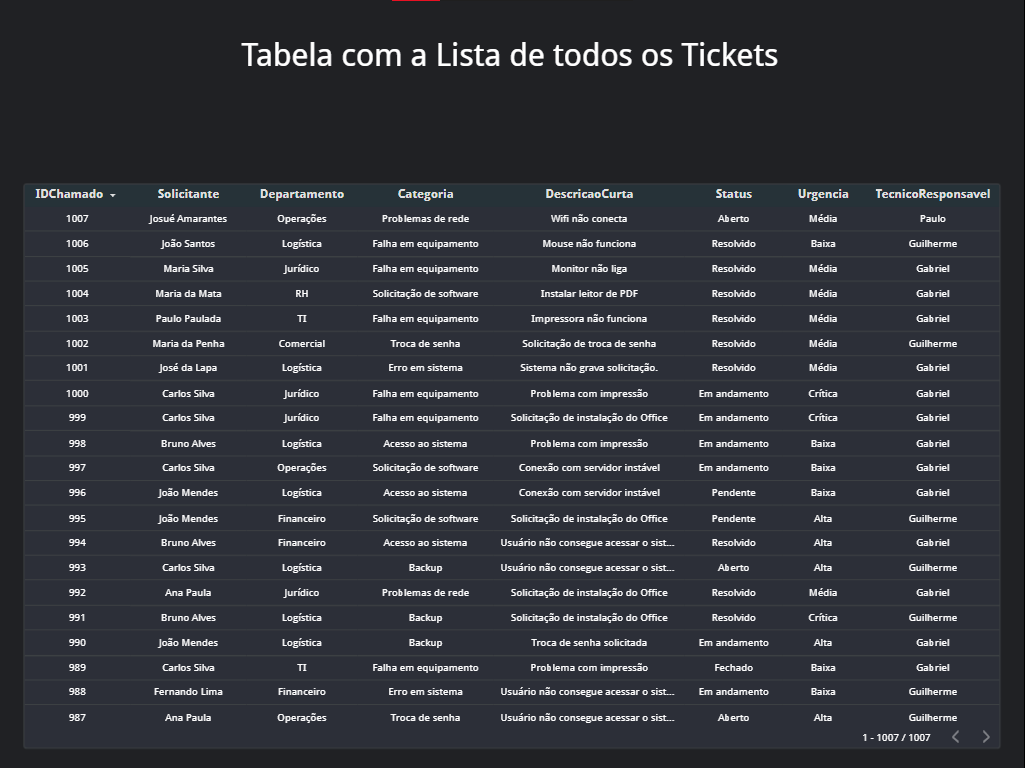

This screenshot's page, from the dashboard's own definition file:
{"tool":"powerbi","page":{"name":"Tabela com os Tickets","canvas":[1280,720],"ordinal":1},"visuals":[{"type":"tableEx","fields":{"Values":["chamados.IDChamado","chamados.Solicitante","chamados.Departamento","chamados.Categoria","chamados.DescricaoCurta","chamados.Status","chamados.Urgencia","chamados.TecnicoResponsavel"]},"box":[46.8,155.5,1186.4,564.3],"z":0},{"type":"textbox","box":[245,27.5,788.6,67.4],"z":1}]}

Visuals, with their boxes on the page's 1280x720 design canvas (x1, y1, x2, y2). These are canvas units, not pixel positions in the 1025x768 screenshot, which may show the page scaled, cropped or inside an application window:
tableEx - chamados.IDChamado x chamados.Solicitante: box(47, 156, 1233, 720)
textbox: box(245, 28, 1034, 95)
